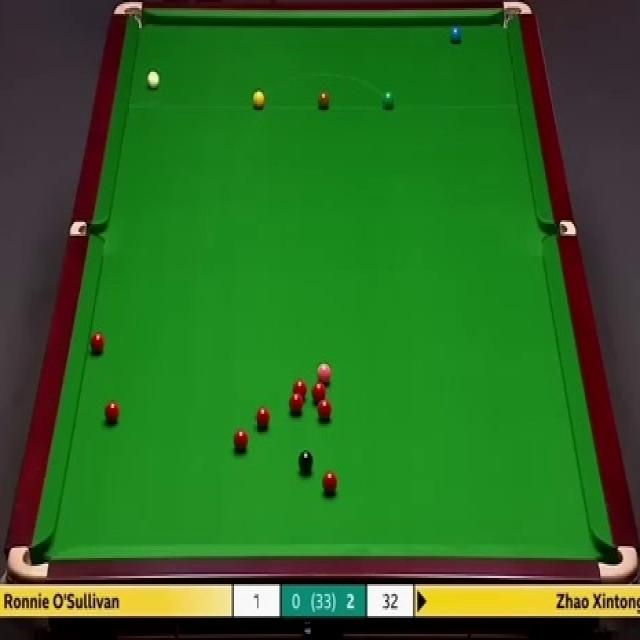black-ball: (298, 448, 315, 477)
blue-ball: (448, 22, 464, 47)
brown-ball: (317, 91, 331, 111)
green-ball: (382, 90, 396, 112)
pink-ball: (314, 361, 332, 385)
red-ball: (104, 399, 120, 427), (322, 472, 340, 496), (288, 393, 304, 416), (256, 405, 270, 431), (89, 331, 104, 355), (291, 379, 308, 400), (234, 428, 248, 452), (317, 398, 332, 420), (311, 382, 327, 402)
white-ball: (145, 68, 161, 92)
yellow-ball: (252, 90, 266, 110)
